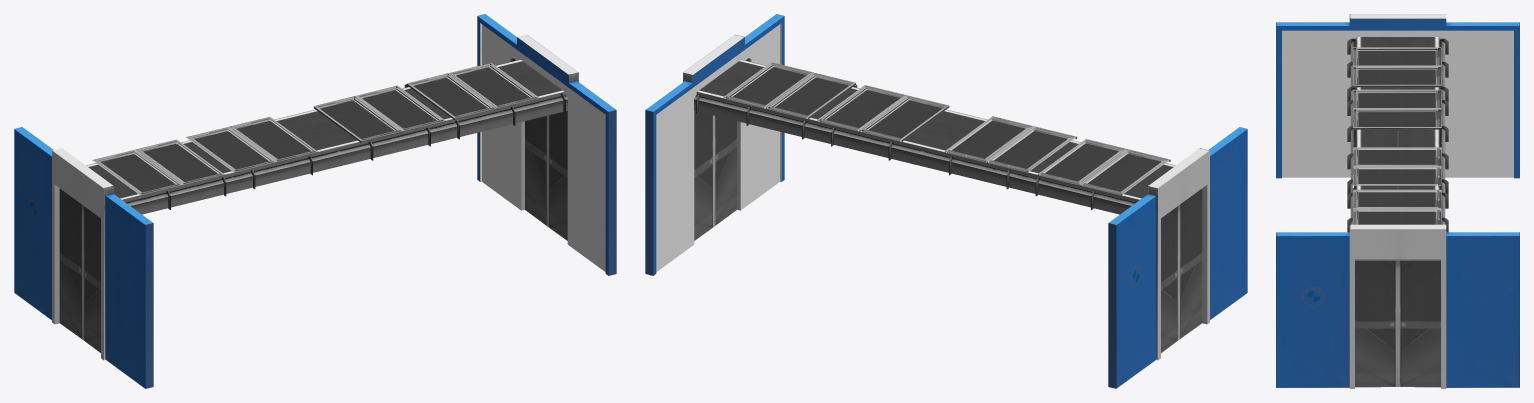
File: set7G.obj
3 renders of one model, left to right at view 1: azimuth 30°, elevation 25°; view 2: azimuth 150°, elevation 25°; view 3: azimuth 270°, elevation 25°, orthographic. The views are drawn at different scales.
Parts seen in each view (by area): view 1: set7G; view 2: set7G; view 3: set7G.
Part boxes in pixels (x1,y1,x2,y2): set7G: (14,14,616,388); set7G: (645,14,1247,388); set7G: (1276,14,1519,388).
Size of the model in its own units: 7.52 by 2.6 by 3.6.
